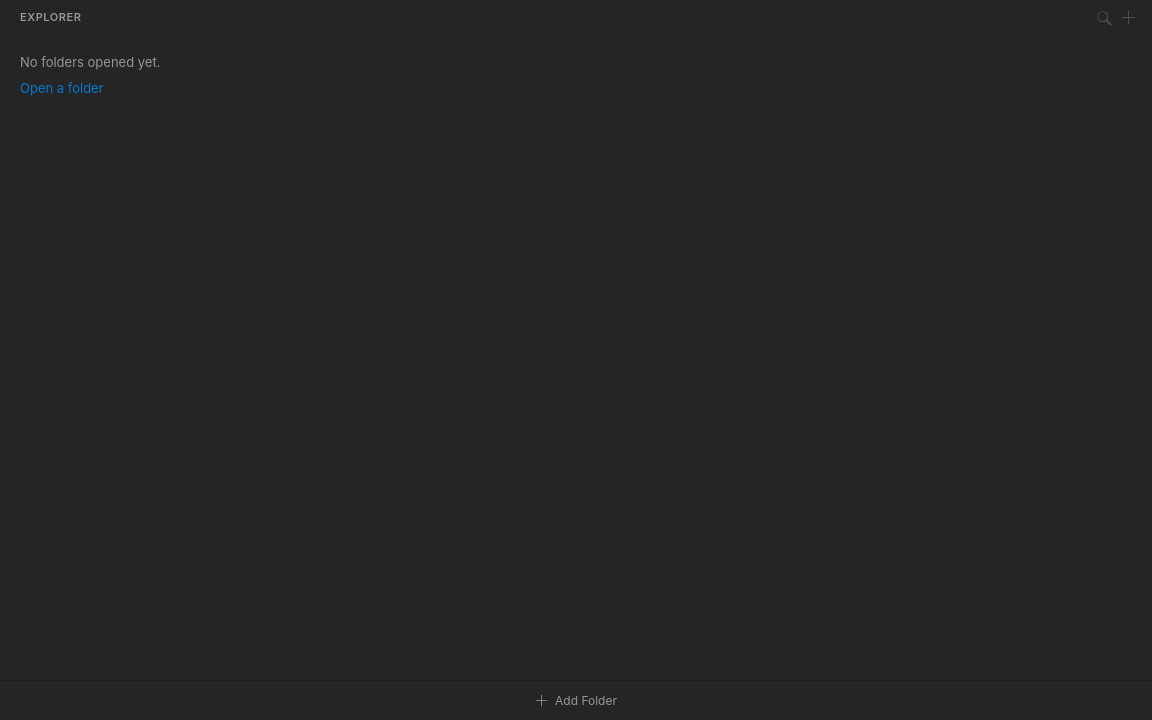
Sidebar › shows filter input when filter button is clicked
Click the button titled "Filter" at (1104, 18), box x1=1093 y1=6 x2=1115 y2=28
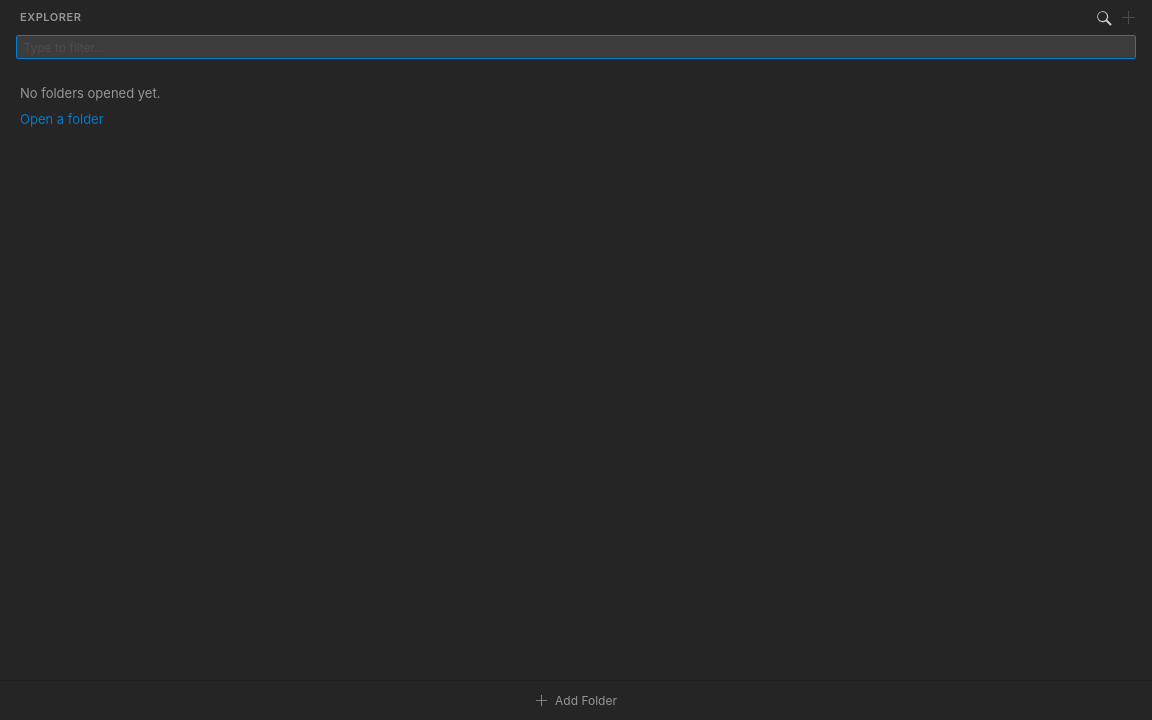
Expected: the field with placeholder "Type to filter..." is shown, x1=16 y1=35 x2=1136 y2=59
